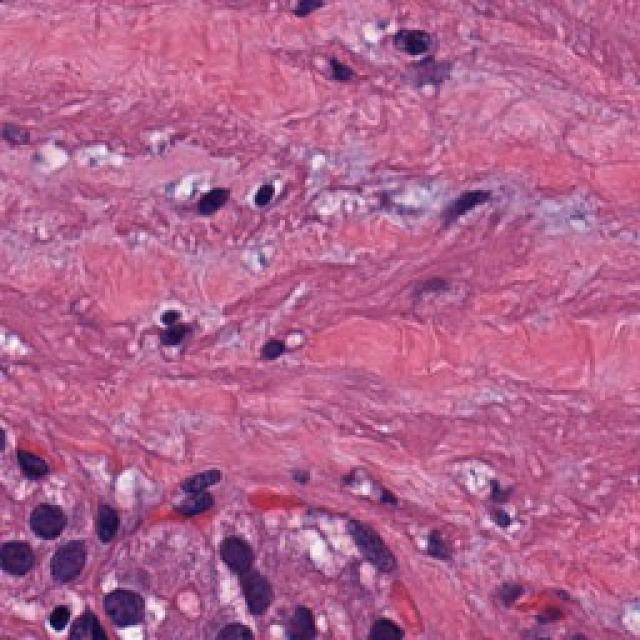normal: (93, 575, 157, 632), (214, 528, 278, 577), (82, 487, 130, 548), (30, 488, 70, 548), (233, 572, 283, 620)
